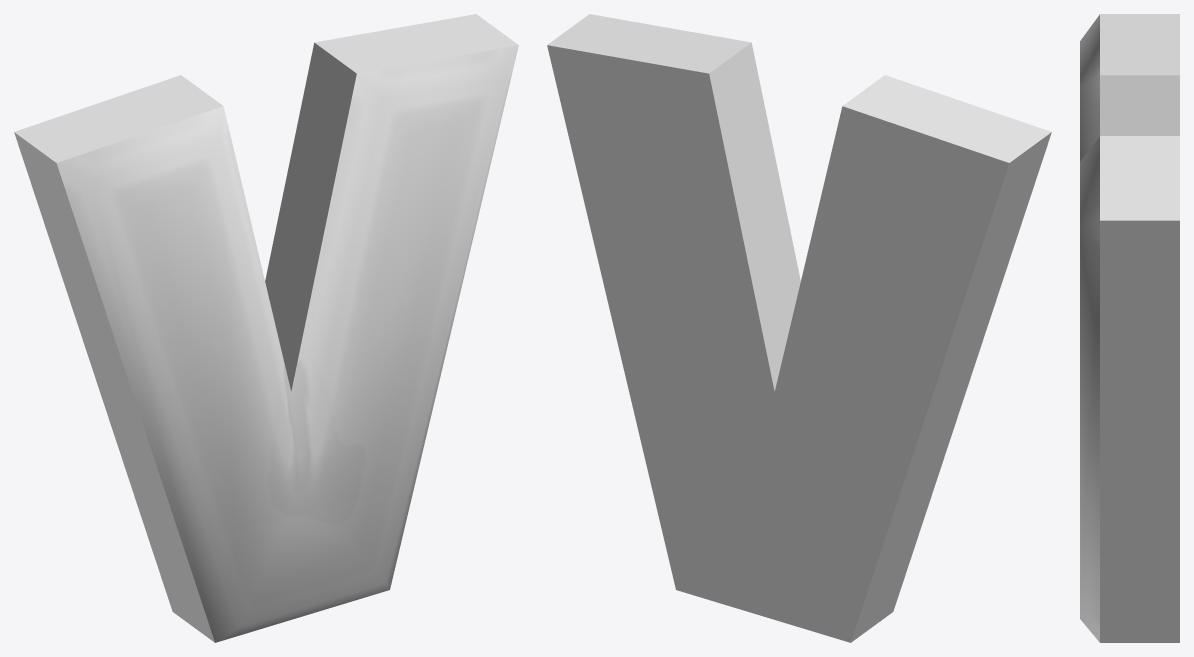
File: LettersStylized01_V.FBX
3 renders of one model, left to right at view 1: azimuth 30°, elevation 25°; view 2: azimuth 150°, elevation 25°; view 3: azimuth 270°, elevation 25°, orthographic. The views are drawn at different scales.
Parts seen in each view (by area): view 1: LettersStylized01_V; view 2: LettersStylized01_V; view 3: LettersStylized01_V.
Part boxes in pixels (x1,y1,x2,y2): LettersStylized01_V: (14, 14, 518, 642); LettersStylized01_V: (547, 14, 1051, 642); LettersStylized01_V: (1080, 14, 1179, 642).
Size of what is drawn, in the model's own units: 0.4266 by 0.4714 by 0.085.
